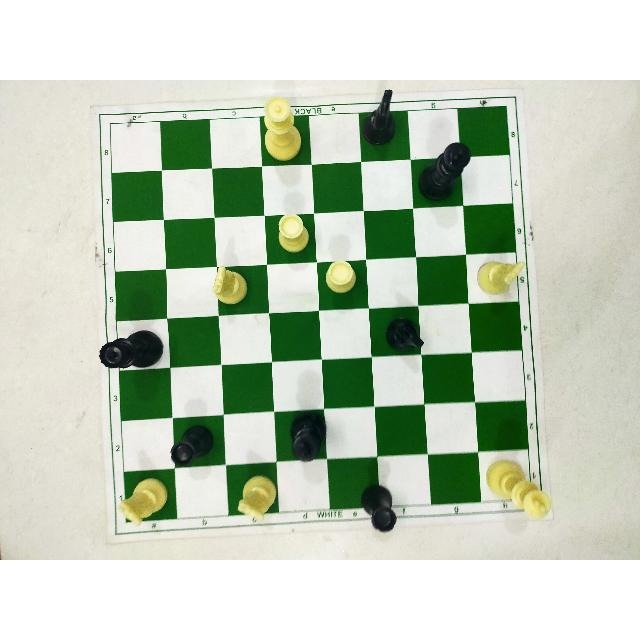black-king: (412, 136, 472, 207), (276, 411, 325, 470)
black-knight: (350, 82, 404, 147), (378, 310, 427, 357)
black-queen: (95, 320, 166, 375)
black-rook: (353, 477, 403, 543), (166, 420, 222, 472)
white-king: (481, 454, 559, 529)
white-knight: (112, 473, 178, 530), (470, 252, 530, 304), (230, 474, 281, 524), (208, 256, 251, 312)
white-queen: (258, 94, 305, 165)
white-rook: (320, 252, 362, 304), (270, 208, 313, 254)
